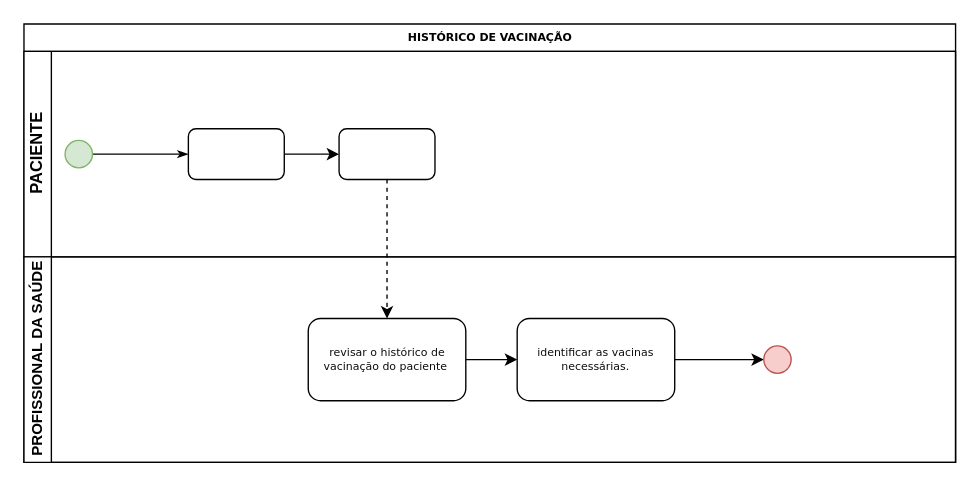
Image size: 980x486. Some labels were removed from this diagram. Each missing label, with the centre of its shape:
"apresentar carteirinha" goes at point 386,153.
"ir ao posto de saúde" goes at point 235,153.
